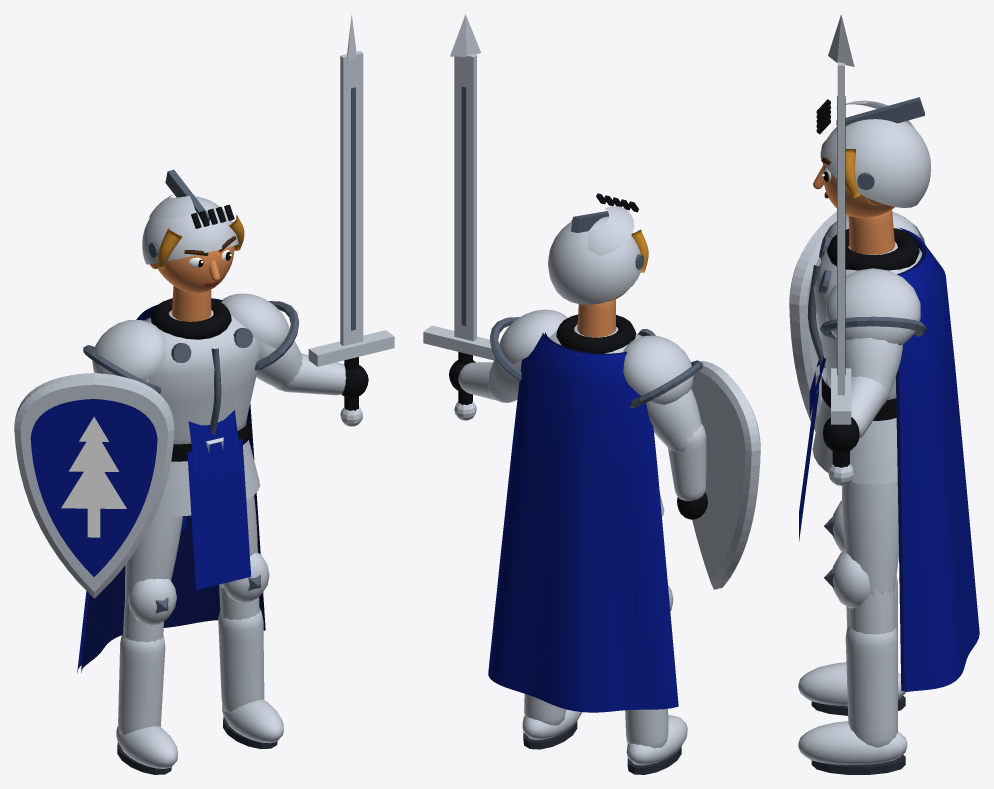
Rendered from knight.glb.
3 renders of one model, left to right at view 1: azimuth 30°, elevation 25°; view 2: azimuth 150°, elevation 25°; view 3: azimuth 270°, elevation 25°, orthographic. The views are drawn at different scales.
Parts seen in each view (by area): view 1: armL_lower_shield_face, armL_lower_shield, breastplate, hips_tabard_1, cloak_lining, armR_lower_blade, shin_-1_boot, shin_1_boot, armL_lower_shield_tree, armL_upper_pauldron, head_helm, thigh_-1 (+19 smaller); view 2: cloak, armL_lower_shield, armR_lower_blade, head_helm, armL_upper_pauldron, armL_upper, armL_lower, armR_upper_pauldron, gorget, shin_-1_boot, head_visor, armR_lower_fuller (+10 smaller); view 3: cloak, head_helm, shin_1_boot, thigh_1, armR_upper_pauldron, armL_lower_shield, hips_tasset, shin_1_foot, armR_lower_blade, armR_upper, gorget, shin_-1_foot (+22 smaller).
Part boxes in pixels (left/top/right/bottom): armL_lower_shield_face: left=30, top=399, right=157, bottom=576; armL_lower_shield: left=14, top=373, right=174, bottom=598; breastplate: left=144, top=310, right=261, bottom=444; hips_tabard_1: left=187, top=439, right=251, bottom=589; cloak_lining: left=81, top=300, right=265, bottom=672; armR_lower_blade: left=340, top=51, right=363, bottom=346; shin_-1_boot: left=118, top=634, right=165, bottom=734; shin_1_boot: left=218, top=608, right=264, bottom=712; armL_lower_shield_tree: left=61, top=417, right=126, bottom=537; armL_upper_pauldron: left=92, top=320, right=165, bottom=380; head_helm: left=142, top=196, right=238, bottom=264; thigh_-1: left=125, top=515, right=182, bottom=604; cloak: left=488, top=333, right=678, bottom=712; armL_lower_shield: left=691, top=361, right=760, bottom=589; armR_lower_blade: left=454, top=54, right=476, bottom=341; head_helm: left=548, top=216, right=641, bottom=304; armL_upper_pauldron: left=623, top=335, right=693, bottom=404; armL_upper: left=646, top=389, right=701, bottom=451; armL_lower: left=668, top=423, right=706, bottom=500; armR_upper_pauldron: left=499, top=309, right=567, bottom=364; gorget: left=556, top=314, right=635, bottom=353; shin_-1_boot: left=625, top=708, right=668, bottom=748; head_visor: left=587, top=206, right=634, bottom=256; armR_lower_fuller: left=461, top=86, right=466, bottom=325; cloak: left=898, top=227, right=979, bottom=691; head_helm: left=820, top=119, right=930, bottom=207; shin_1_boot: left=845, top=625, right=897, bottom=747; thigh_1: left=842, top=481, right=898, bottom=596; armR_upper_pauldron: left=826, top=268, right=920, bottom=345; armL_lower_shield: left=789, top=211, right=846, bottom=431; hips_tasset: left=812, top=377, right=897, bottom=484; shin_1_foot: left=798, top=721, right=907, bottom=764; armR_lower_blade: left=837, top=62, right=844, bottom=395; armR_upper: left=845, top=337, right=902, bottom=404; gorget: left=826, top=228, right=919, bottom=270; shin_-1_foot: left=798, top=662, right=905, bottom=705.
Size of the model in its own units: 3.24 by 6.09 by 1.31.
